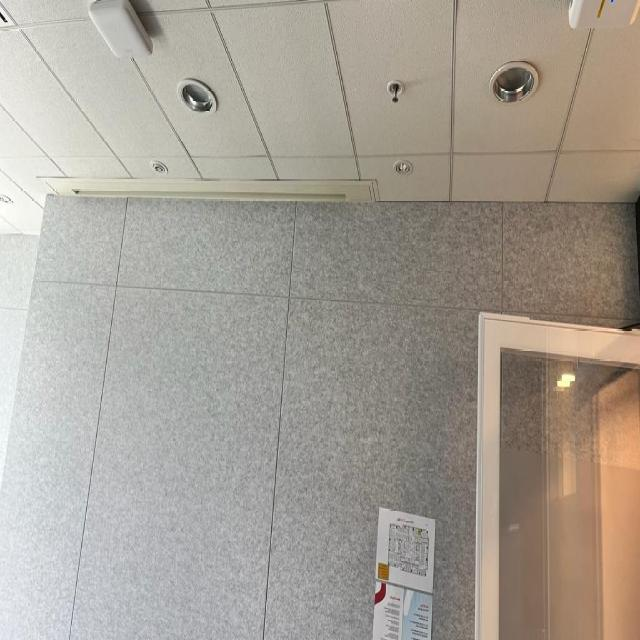Light-Closed: (486, 55, 541, 110), (177, 70, 219, 116), (392, 156, 415, 180), (0, 188, 15, 209)
